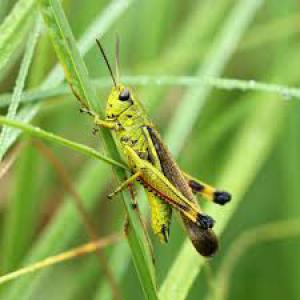locust: (88, 29, 238, 265)
